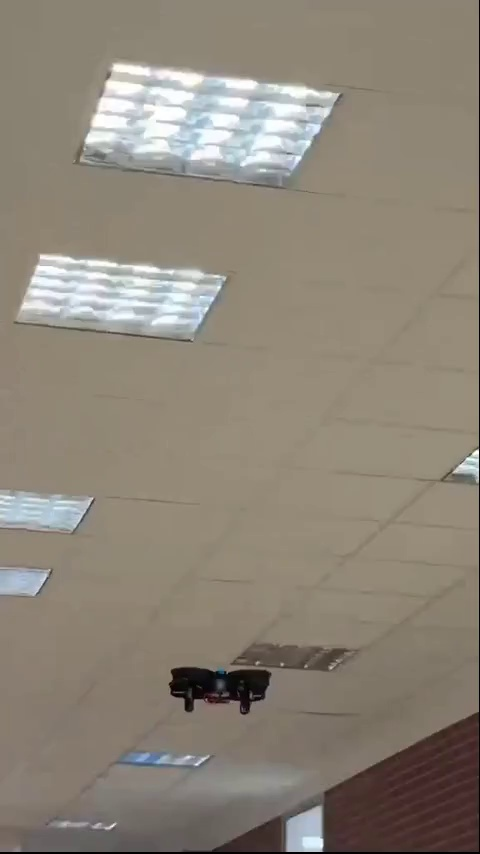drone: (168, 662, 276, 721)
